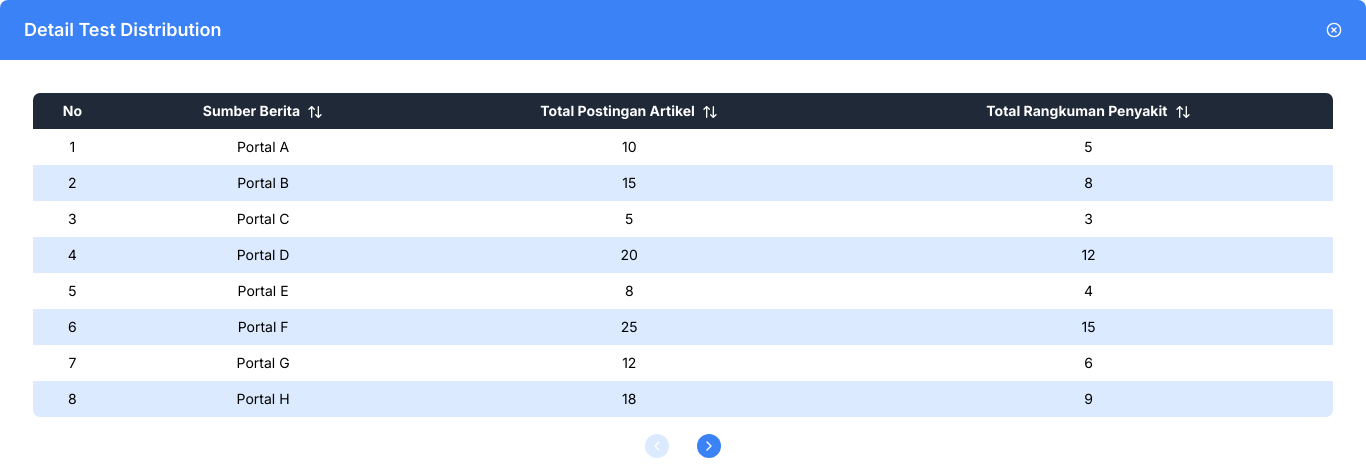
Scenario: DetailDistribution Component › Pagination › handles pagination correctly
The image size is (1366, 475).
Check: the button with test id "previous-page-button" is disabled, box [645,434,669,458]
Note: Klik next button
Click the button with test id "next-page-button" at {"x": 709, "y": 446}, box [697,434,721,458]
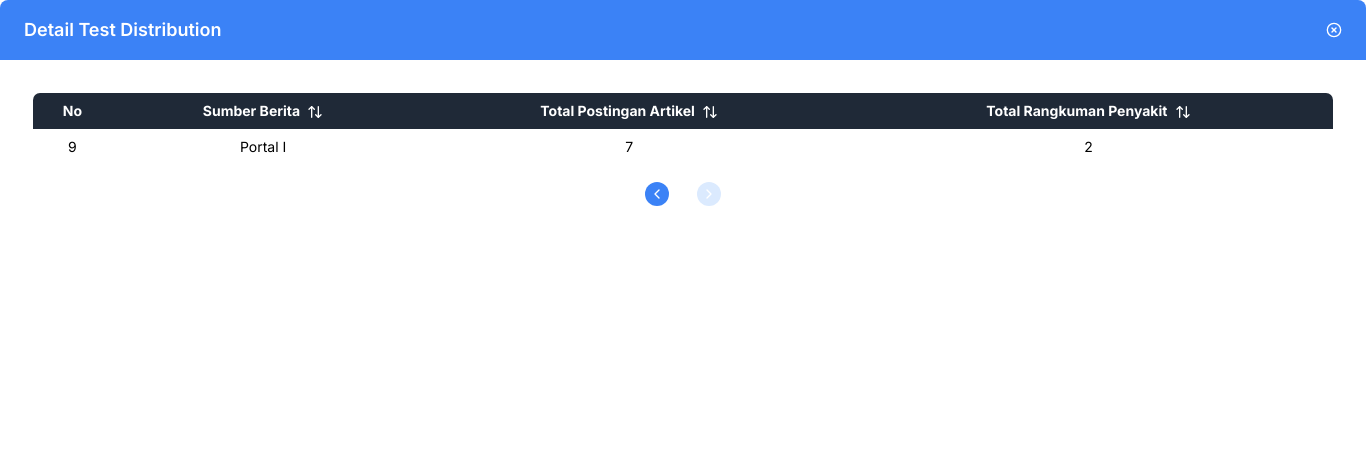
Check: the button with test id "previous-page-button" is enabled, box [645,182,669,206]
